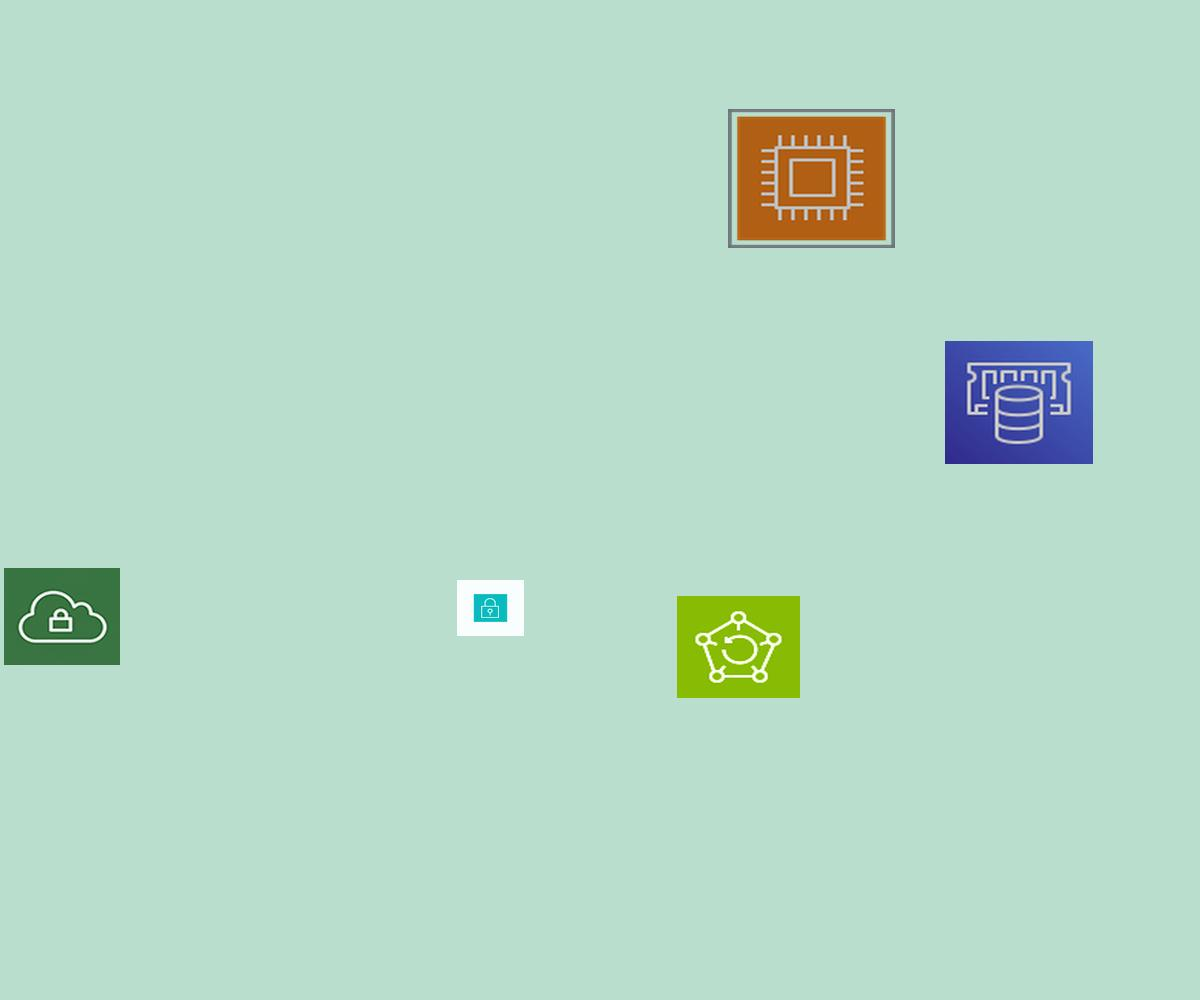AWS-Backup: (677, 596, 800, 698)
AWS-Category_Compute: (728, 109, 895, 248)
AWS-ElastiCache: (945, 341, 1093, 464)
AWS-Private-subnet: (457, 580, 524, 636)
AWS-Private_vpc: (4, 568, 120, 665)
